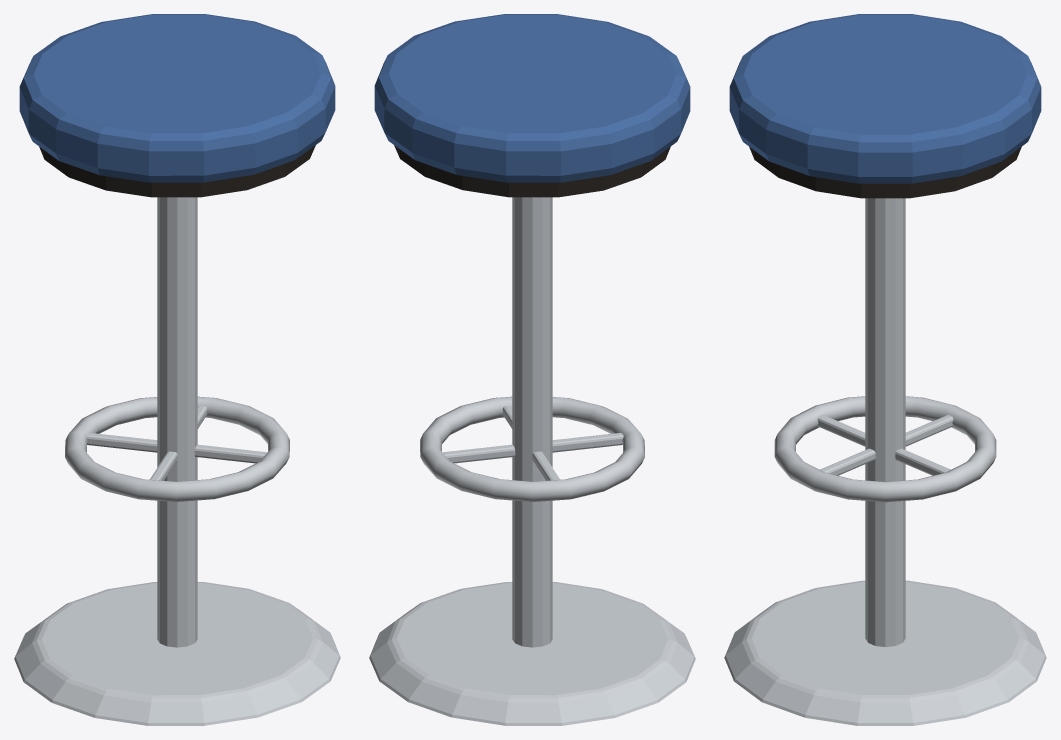
Rendered from hh_cat_bar_stool.glb.
The picture shows the model from 3 angles, left to right: view 1: azimuth 30°, elevation 25°; view 2: azimuth 150°, elevation 25°; view 3: azimuth 270°, elevation 25°; orthographic projection.
Parts seen in each view (by area): view 1: seat, base, pole, foot_ring, seat_pan, foot_ring_spoke.001, foot_ring_spoke.003; view 2: seat, base, pole, foot_ring, seat_pan, foot_ring_spoke.002, foot_ring_spoke; view 3: seat, base, pole, foot_ring, seat_pan, foot_ring_spoke.001, foot_ring_spoke.002, foot_ring_spoke, foot_ring_spoke.003.
Boxes of the visible parts, left/top/right/bottom form: seat: left=19, top=14, right=335, bottom=182; base: left=14, top=582, right=340, bottom=725; pole: left=157, top=197, right=197, bottom=647; foot_ring: left=65, top=396, right=289, bottom=501; seat_pan: left=39, top=145, right=315, bottom=197; foot_ring_spoke.001: left=86, top=432, right=157, bottom=452; foot_ring_spoke.003: left=194, top=444, right=267, bottom=463; seat: left=374, top=14, right=690, bottom=182; base: left=369, top=582, right=695, bottom=725; pole: left=512, top=197, right=552, bottom=647; foot_ring: left=420, top=396, right=644, bottom=501; seat_pan: left=394, top=145, right=670, bottom=197; foot_ring_spoke.002: left=552, top=432, right=623, bottom=452; foot_ring_spoke: left=442, top=444, right=515, bottom=463; seat: left=729, top=14, right=1041, bottom=183; base: left=724, top=580, right=1046, bottom=725; pole: left=865, top=198, right=905, bottom=646; foot_ring: left=774, top=396, right=996, bottom=502; seat_pan: left=749, top=147, right=1021, bottom=198; foot_ring_spoke.001: left=905, top=415, right=953, bottom=446; foot_ring_spoke.002: left=817, top=415, right=865, bottom=446; foot_ring_spoke: left=895, top=448, right=950, bottom=475; foot_ring_spoke.003: left=820, top=448, right=875, bottom=475.
Bounding box in the file's own units: 0.36 × 0.72 × 0.36.
